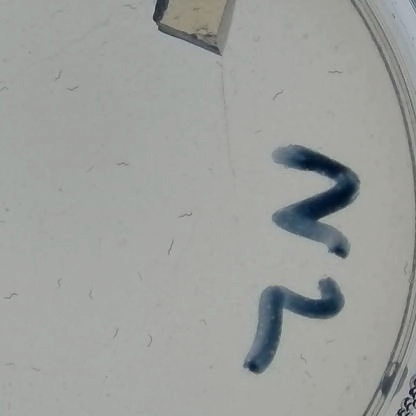worm: (155, 238, 186, 259), (19, 358, 48, 379), (391, 258, 414, 283), (134, 332, 158, 351), (315, 335, 339, 353), (170, 209, 195, 226), (2, 285, 23, 305), (60, 80, 85, 96), (75, 166, 96, 183), (294, 351, 311, 372), (44, 69, 67, 84), (46, 6, 65, 24), (105, 327, 123, 345), (114, 157, 137, 171), (119, 0, 139, 16), (271, 87, 291, 103), (0, 399, 17, 416), (194, 315, 212, 331), (55, 272, 68, 294), (0, 359, 16, 375), (131, 268, 146, 284), (325, 66, 347, 76), (88, 284, 98, 305), (301, 368, 316, 381)
